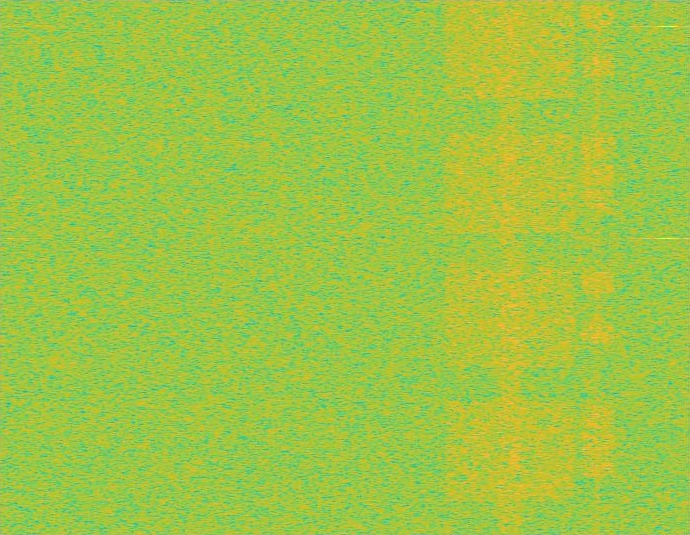5G: (441, 0, 579, 534)
DSSS: (494, 0, 525, 534), (595, 0, 600, 534)
LTE: (580, 0, 615, 534)
Radar: (660, 0, 673, 534)
